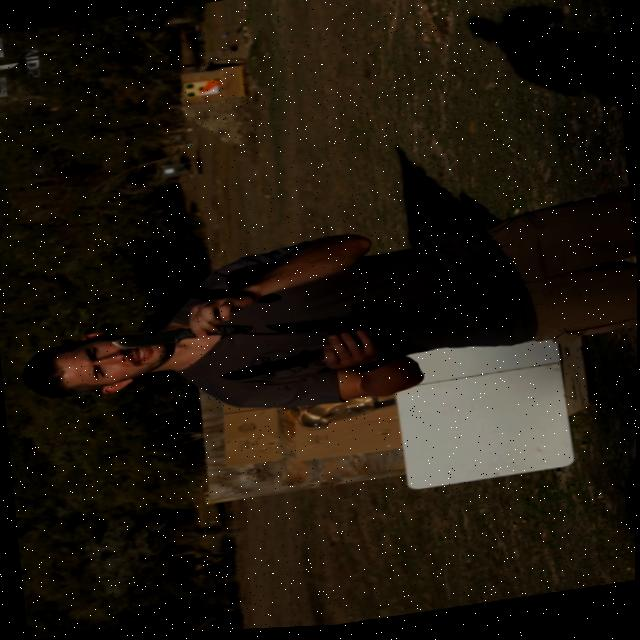knife: (95, 317, 254, 356), (211, 346, 337, 389)
